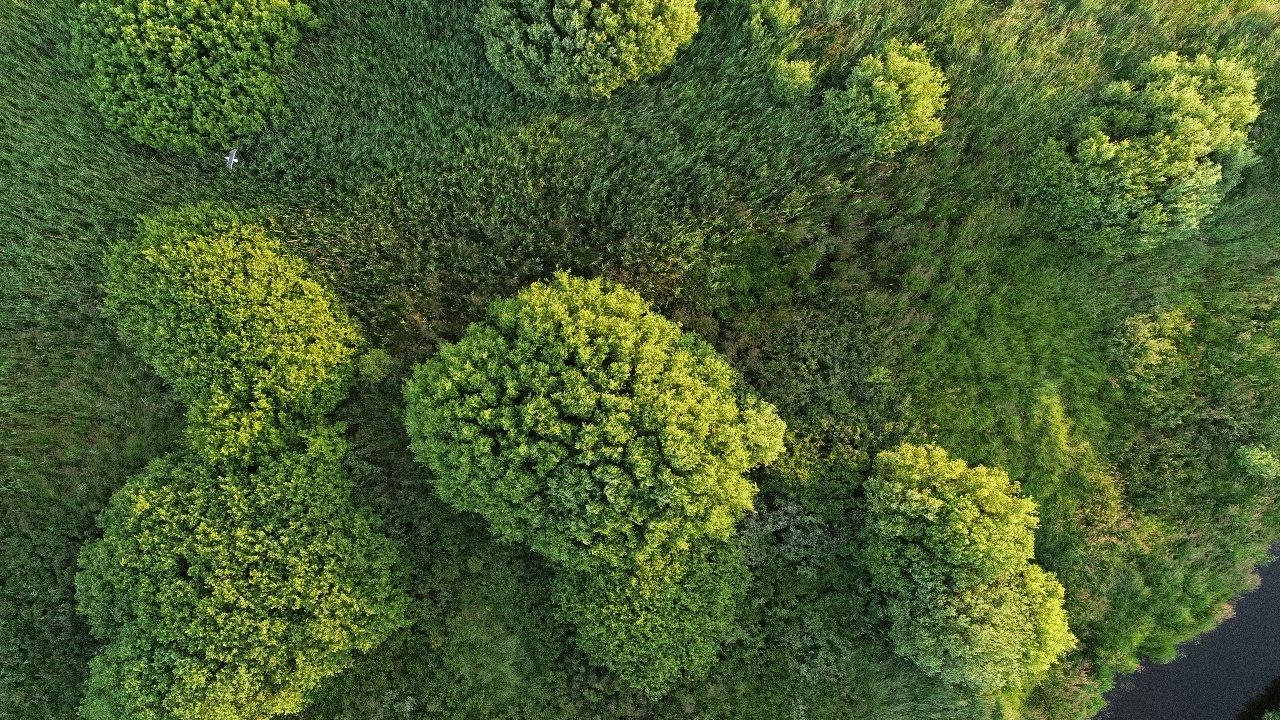Bird: (214, 141, 251, 177)
